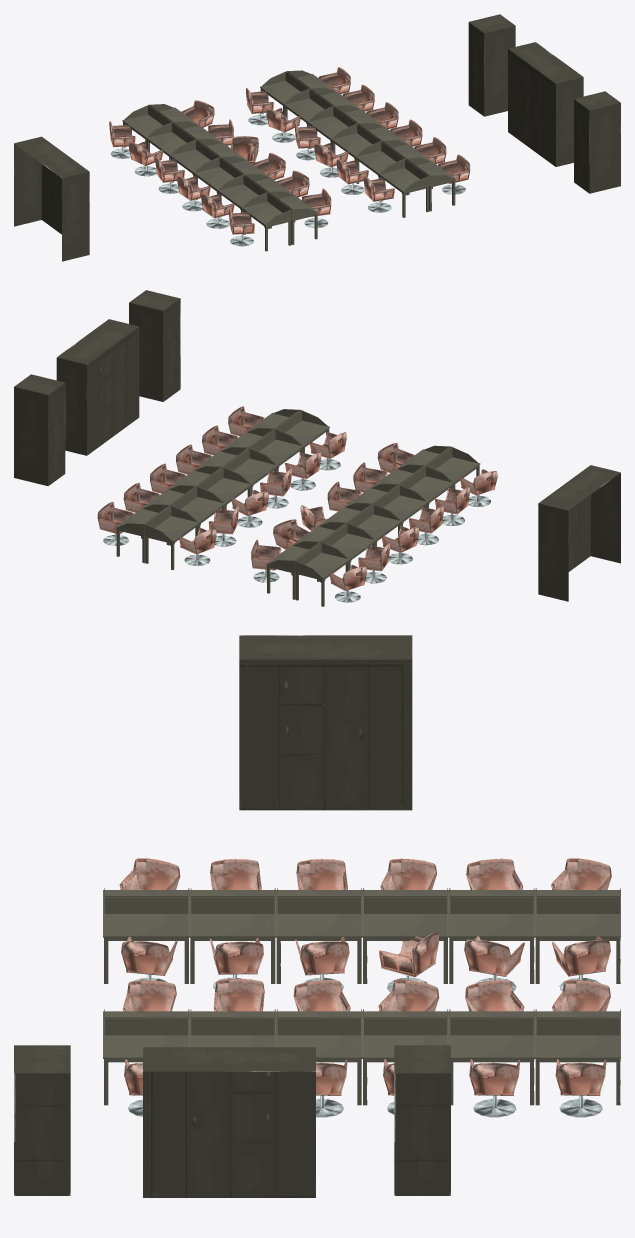
File: office room 2.FBX
The picture shows the model from 3 angles, top to bottom: view 1: azimuth 30°, elevation 25°; view 2: azimuth 150°, elevation 25°; view 3: azimuth 270°, elevation 25°; orthographic projection. The views are drawn at different scales.
Visible parts, largest first — view 1: Object096; view 2: Object096; view 3: Object096.
Part boxes in pixels (x1,y1,x2,y2): Object096: (14,14,620,261); Object096: (14,290,620,606); Object096: (14,635,620,1197).
Bounding box in the file's own units: 1495 × 249 × 876.
Materials: 1 (1 with a texture image).
